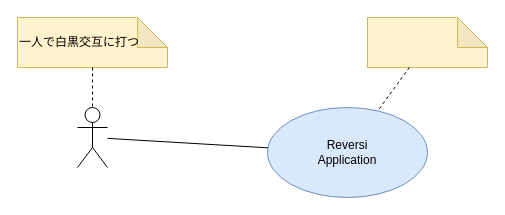
Image size: 505x215. Some labels were removed from this diagram. The centre of each missing label's shape, as x and y in pixels:
"Player" belongs at point 92,137.
"Web App" belongs at point 427,42.
